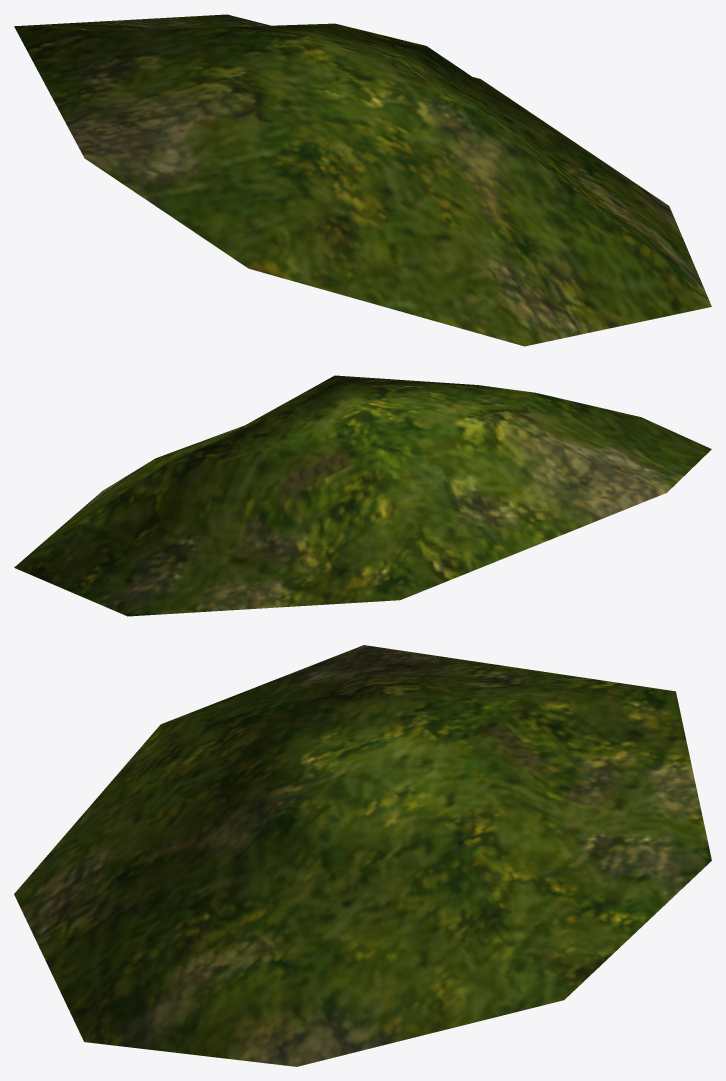
Rendered from OVERHILL_A_01_ROCK205.fbx.
The picture shows the model from 3 angles, top to bottom: view 1: azimuth 30°, elevation 25°; view 2: azimuth 150°, elevation 25°; view 3: azimuth 270°, elevation 25°; orthographic projection. The views are drawn at different scales.
Parts seen in each view (by area): view 1: OVERHILL_A_01_ROCK205; view 2: OVERHILL_A_01_ROCK205; view 3: OVERHILL_A_01_ROCK205.
Boxes of the visible parts, x1,y1,x2,y2 form: OVERHILL_A_01_ROCK205: (14,14,711,346); OVERHILL_A_01_ROCK205: (14,375,711,616); OVERHILL_A_01_ROCK205: (14,645,711,1066).
Bounding box in the file's own units: 10184 × 3555 × 11284.
1 material, 1 textured.
